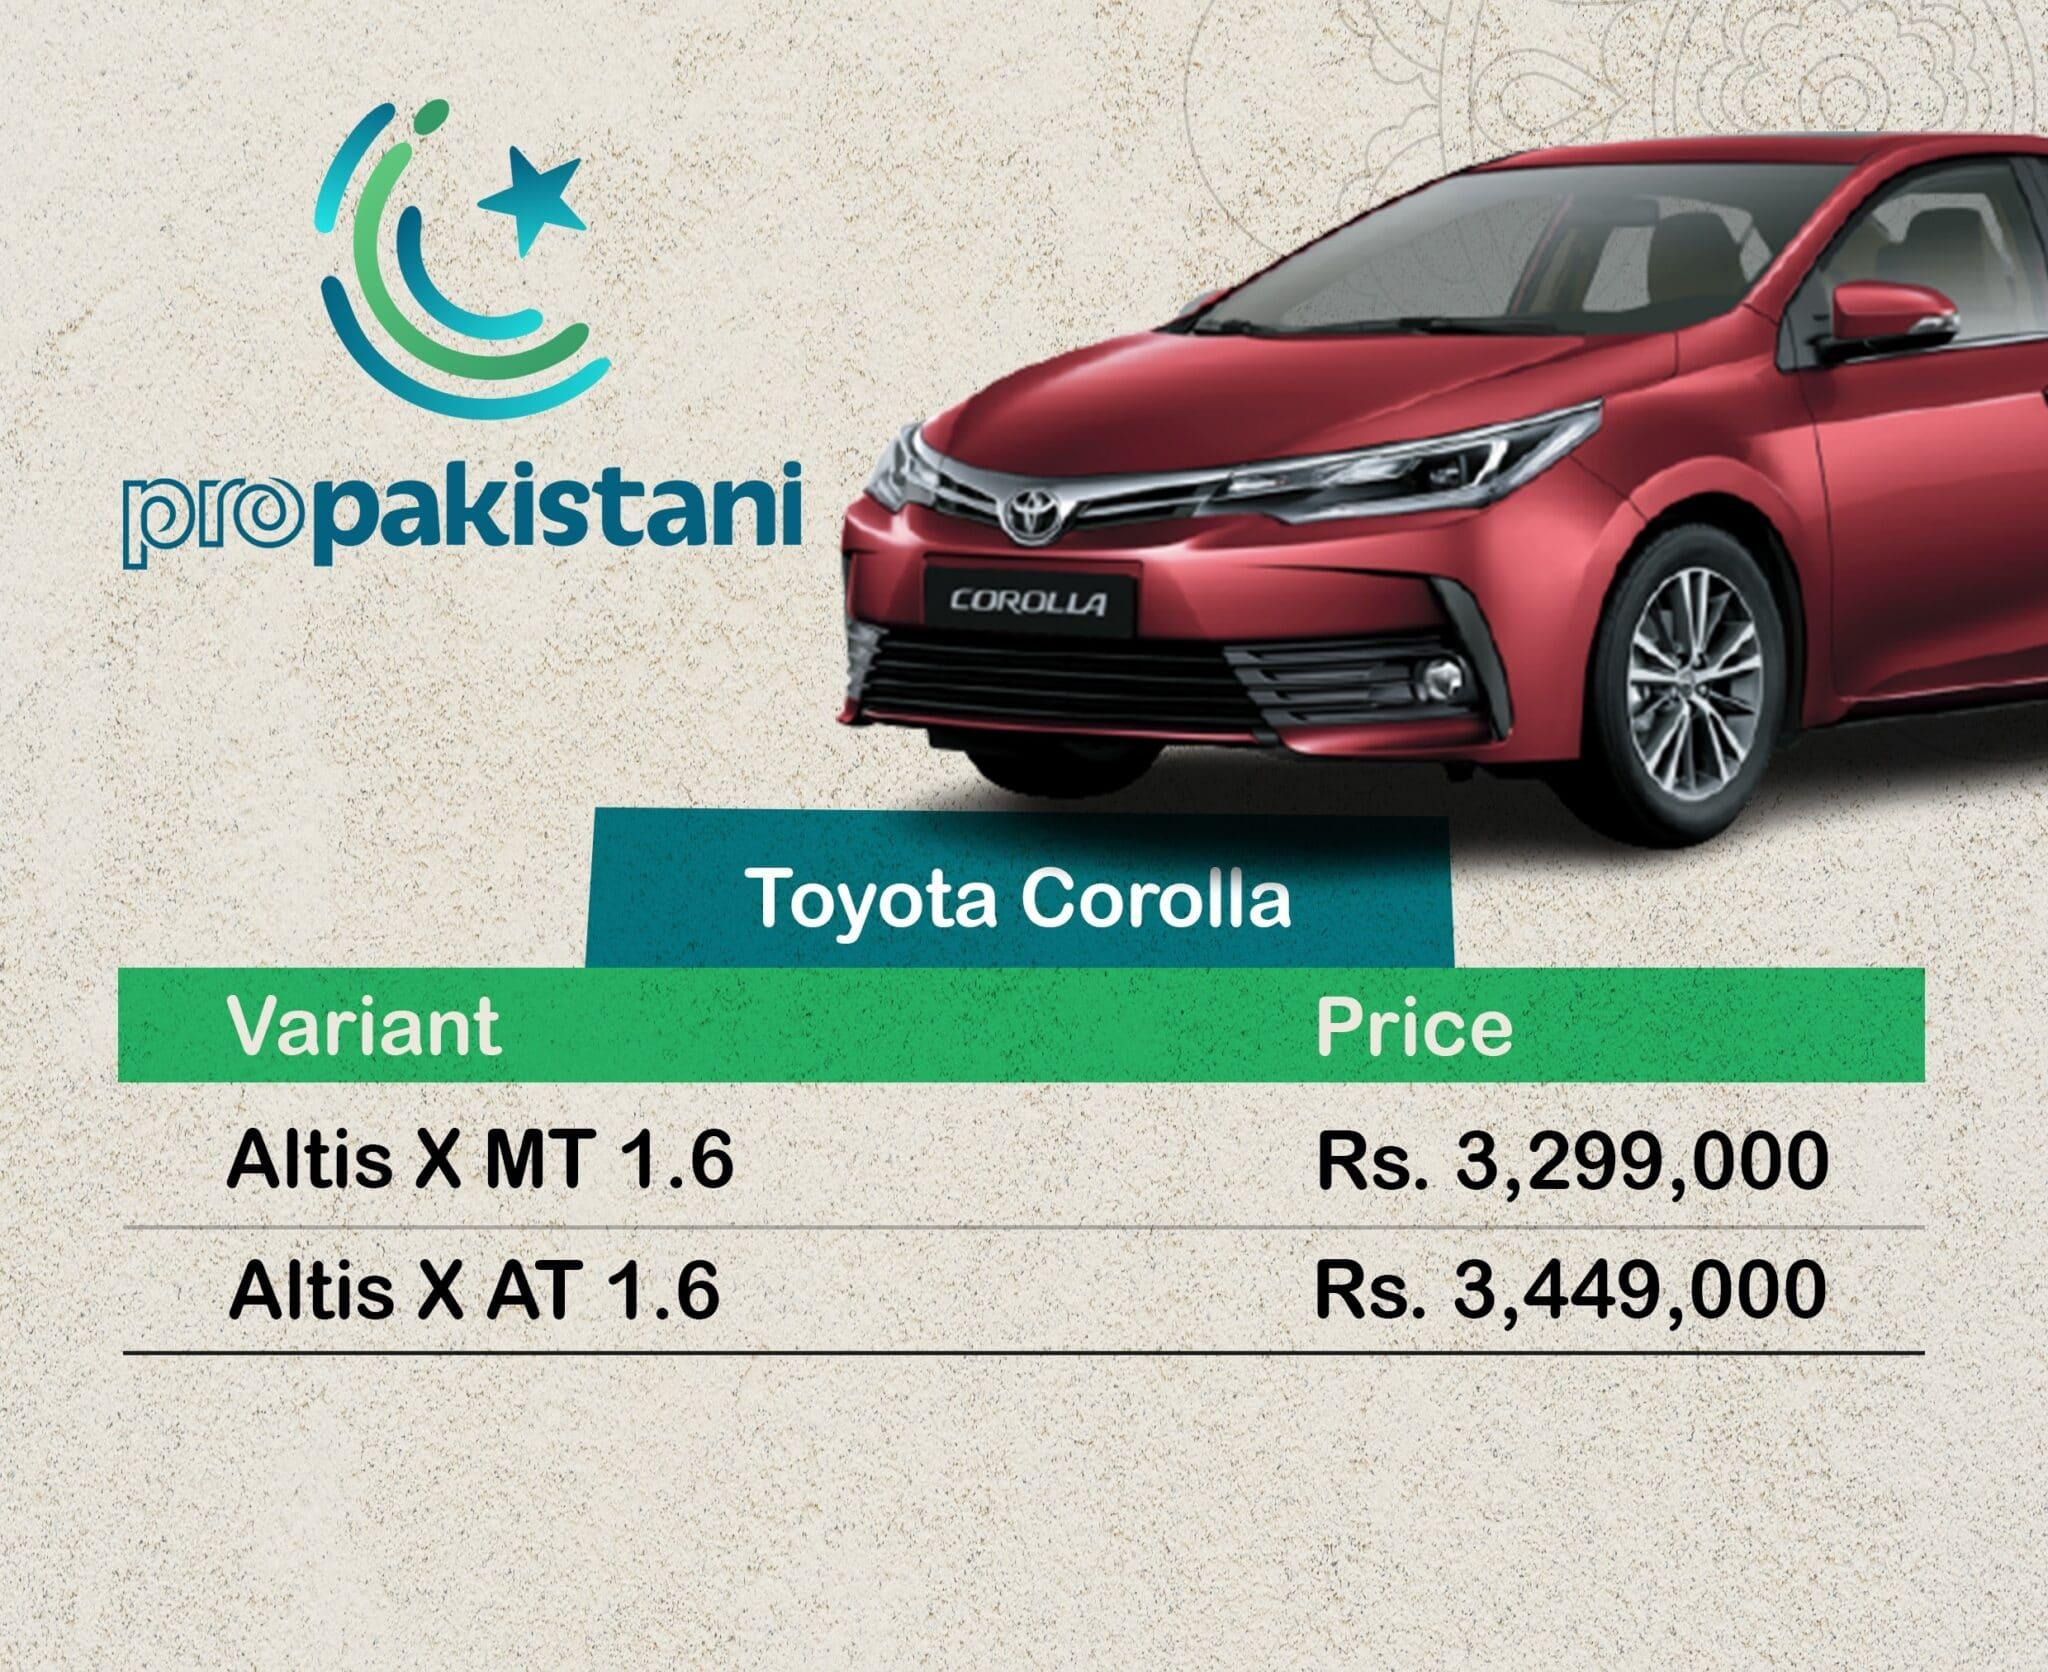windshield: (1152, 150, 1886, 340)
